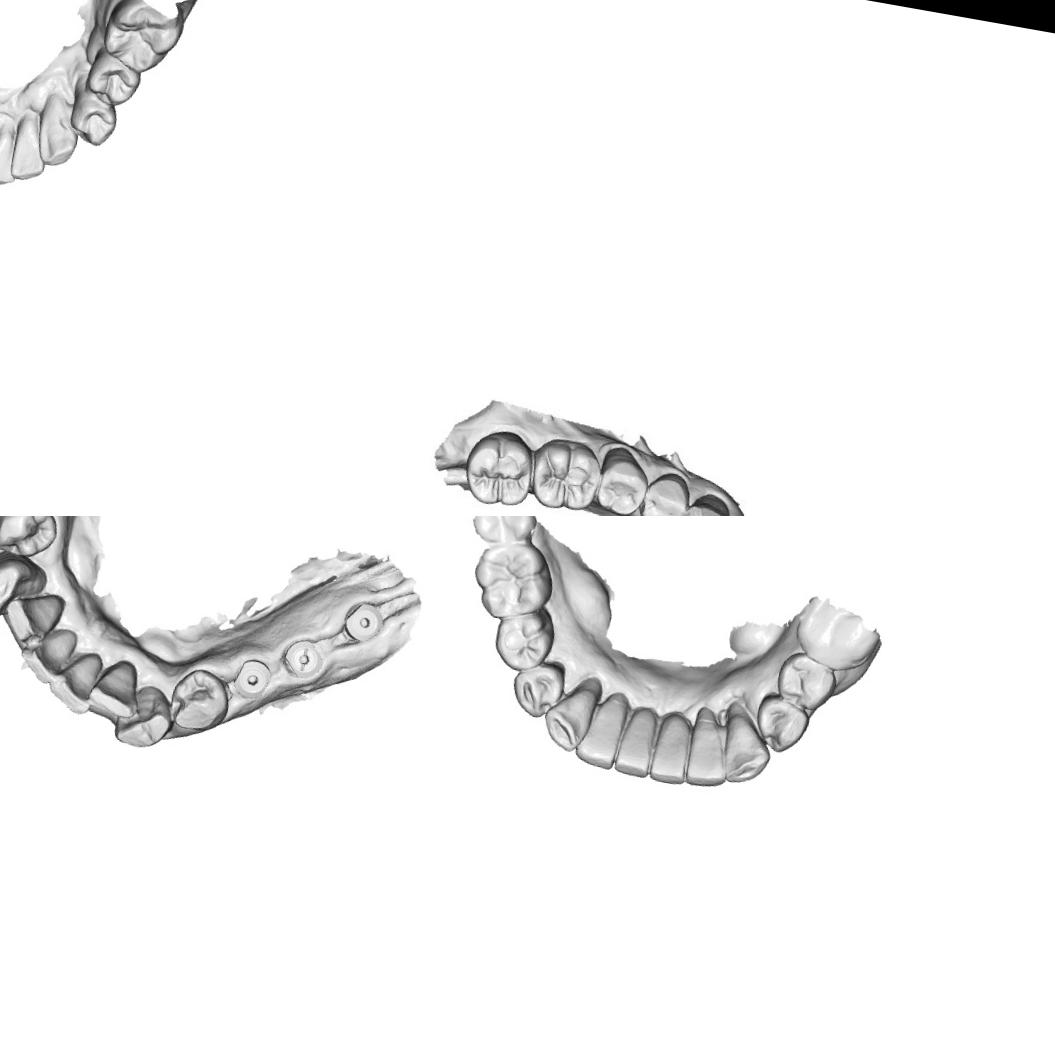canine: (540, 677, 601, 754), (111, 683, 177, 754), (716, 714, 774, 790), (31, 103, 84, 171), (0, 555, 39, 620), (674, 488, 736, 516)
implant: (340, 597, 386, 646), (230, 656, 275, 700)
implant_minus: (280, 639, 325, 680)
incisor: (570, 700, 628, 771), (0, 588, 59, 655), (46, 652, 104, 716), (90, 656, 146, 720), (680, 724, 734, 790), (610, 711, 659, 780), (18, 626, 74, 686), (644, 721, 694, 788), (5, 113, 52, 184), (0, 127, 22, 189)
molar: (466, 534, 558, 628), (458, 424, 544, 512), (95, 0, 188, 80), (524, 429, 608, 516)
premolar: (165, 664, 235, 735), (488, 604, 558, 674), (770, 648, 839, 714), (748, 690, 812, 758), (506, 654, 570, 722), (81, 47, 145, 112), (590, 450, 651, 516), (62, 86, 122, 150), (632, 467, 693, 516), (0, 516, 63, 561)
